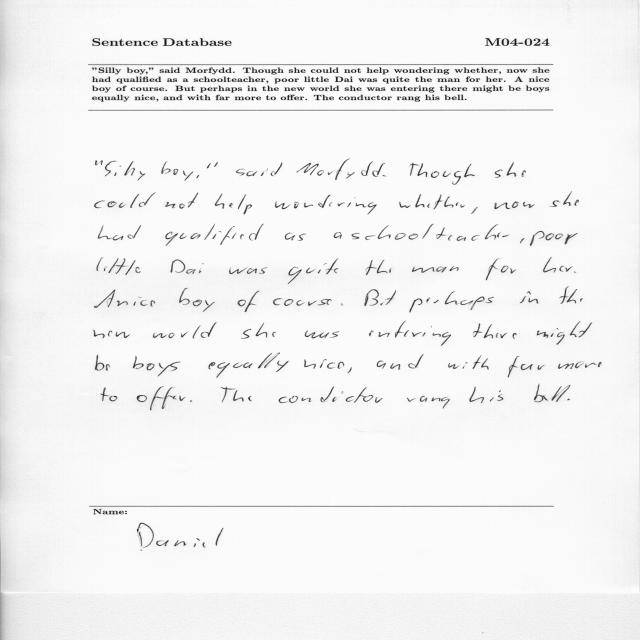word: (351, 224, 509, 241), (165, 224, 264, 246), (369, 321, 451, 346), (275, 195, 377, 215), (208, 353, 289, 378), (296, 159, 385, 180), (409, 292, 494, 313), (278, 386, 383, 403), (410, 163, 475, 185), (537, 321, 592, 345), (288, 258, 338, 284), (137, 387, 186, 411), (153, 322, 217, 339), (399, 194, 465, 210), (95, 192, 156, 208), (133, 356, 180, 376), (179, 288, 215, 312), (105, 161, 145, 181), (508, 356, 545, 377), (97, 257, 140, 275), (377, 354, 424, 370), (215, 194, 252, 214), (530, 231, 578, 246), (473, 323, 517, 339), (486, 258, 516, 280), (534, 384, 570, 402), (99, 225, 142, 240), (448, 355, 489, 370), (162, 162, 194, 181), (236, 163, 282, 176), (241, 323, 276, 339), (365, 289, 397, 306), (470, 387, 504, 403), (165, 193, 198, 209), (407, 396, 450, 408), (495, 162, 526, 178), (171, 259, 204, 274), (221, 387, 252, 402), (273, 298, 331, 306), (237, 291, 259, 312), (550, 192, 579, 207), (543, 258, 572, 273), (559, 287, 583, 304), (304, 359, 344, 369), (117, 297, 155, 307), (95, 290, 116, 308), (366, 260, 391, 275), (412, 266, 459, 273), (495, 201, 535, 209), (558, 362, 602, 369), (93, 330, 130, 338), (305, 331, 339, 339), (520, 291, 539, 304), (101, 388, 118, 402), (229, 268, 267, 274), (96, 355, 110, 371), (285, 232, 306, 241), (207, 162, 218, 168), (334, 232, 342, 239), (471, 207, 478, 214), (96, 160, 103, 165), (347, 367, 352, 373), (520, 238, 525, 243), (197, 175, 200, 178), (383, 175, 387, 176), (574, 271, 576, 273), (341, 304, 343, 306), (191, 400, 193, 402), (567, 399, 570, 400)
